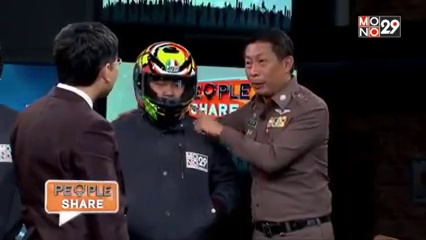helmet: (133, 38, 200, 129)
